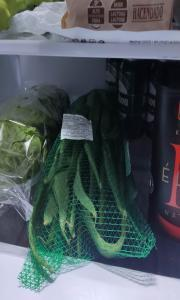Lechuga/Endivia: (1, 86, 71, 222)
